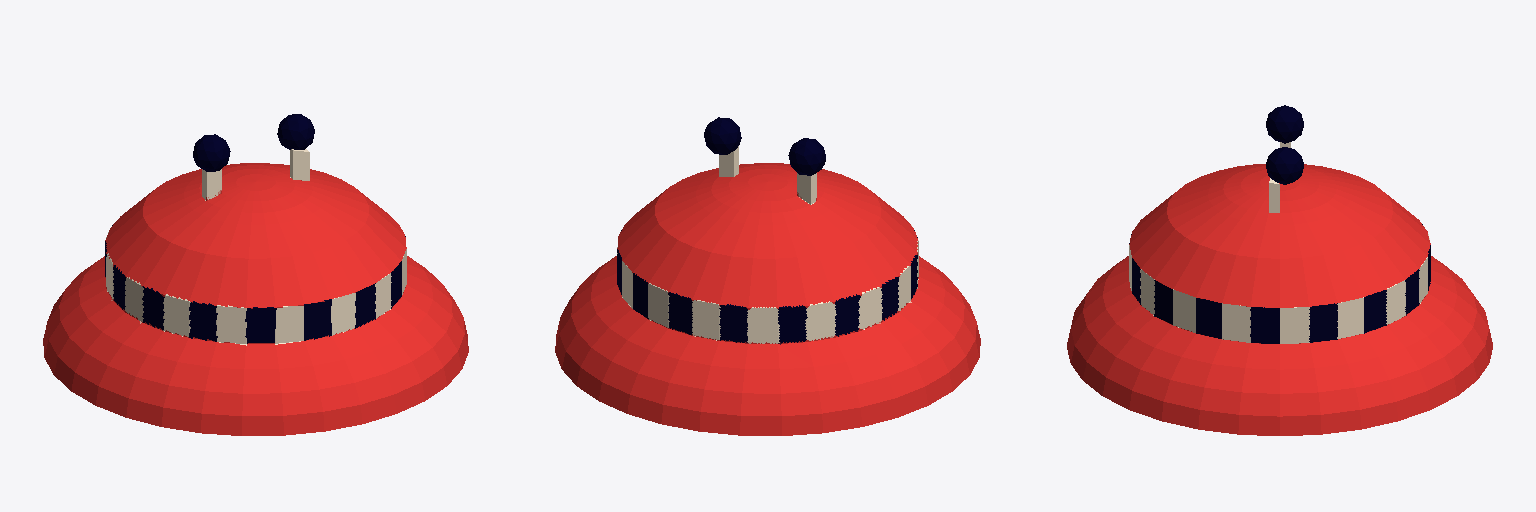
3 renders of one model, left to right at view 1: azimuth 30°, elevation 25°; view 2: azimuth 150°, elevation 25°; view 3: azimuth 270°, elevation 25°, orthographic.
Parts seen in each view (by area): view 1: sphere; view 2: sphere; view 3: sphere.
Part boxes in pixels (bbox=[...]): sphere: bbox=[43, 114, 468, 435]; sphere: bbox=[555, 117, 980, 435]; sphere: bbox=[1067, 105, 1492, 435].
Bounding box in the file's own units: 2.25 × 1.5 × 2.25.
Materials: 1 (1 with a texture image).